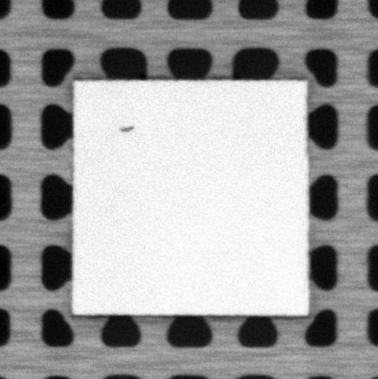DIE_INK: (117, 122, 136, 133)
